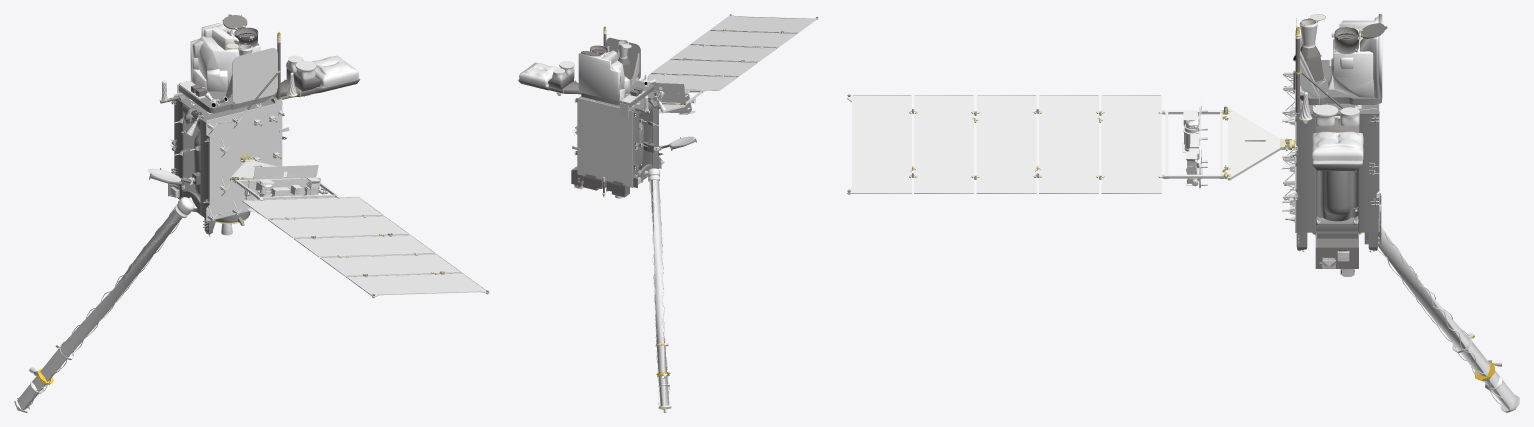
Rendered from goes_r.glb.
The picture shows the model from 3 angles, left to right: view 1: azimuth 30°, elevation 25°; view 2: azimuth 150°, elevation 25°; view 3: azimuth 270°, elevation 25°; orthographic projection. The views are drawn at different scales.
Parts seen in each view (by area): view 1: arrayPanels, BUS, ABI, Boom, Inst3, GOES_R_2011_exp:Radiator.001, SUVI_EXIS, arrayBrace, Bench, boomWires, Ins1; view 2: BUS, arrayPanels, ABI, Boom, Inst3, SUVI_EXIS, GOES_R_2011_exp:Radiator.001, Bench, boomWires, Ins1, GLM, arrayBrace; view 3: arrayPanels, BUS, ABI, arrayBrace, Inst3, Boom, SUVI_EXIS, Bench, GLM, boomWires.
Part boxes in pixels (x1,y1,x2,y2): arrayPanels: [242, 196, 489, 296]; BUS: [159, 32, 297, 236]; ABI: [190, 14, 260, 91]; Boom: [17, 210, 181, 410]; Inst3: [273, 55, 360, 97]; GOES_R_2011_exp:Radiator.001: [225, 48, 277, 103]; SUVI_EXIS: [246, 165, 320, 214]; arrayBrace: [230, 160, 340, 200]; Bench: [178, 81, 272, 113]; boomWires: [23, 208, 179, 410]; Ins1: [148, 168, 200, 187]; BUS: [571, 26, 664, 197]; arrayPanels: [640, 15, 818, 90]; ABI: [578, 45, 629, 101]; Boom: [650, 179, 669, 406]; Inst3: [518, 61, 581, 95]; SUVI_EXIS: [650, 83, 695, 114]; GOES_R_2011_exp:Radiator.001: [606, 37, 640, 85]; Bench: [581, 80, 653, 107]; boomWires: [649, 180, 669, 406]; Ins1: [643, 136, 696, 155]; GLM: [618, 39, 632, 79]; arrayBrace: [659, 89, 705, 113]; arrayPanels: [847, 95, 1161, 193]; BUS: [1282, 25, 1382, 268]; ABI: [1328, 14, 1387, 99]; arrayBrace: [1158, 109, 1283, 186]; Inst3: [1311, 104, 1363, 171]; Boom: [1378, 227, 1516, 409]; SUVI_EXIS: [1182, 97, 1202, 188]; Bench: [1300, 60, 1381, 104]; GLM: [1299, 14, 1325, 87]; boomWires: [1377, 227, 1509, 410].
Size of the model in its own units: 0.5404 by 0.7927 by 1.
17 materials, 2 textured.
